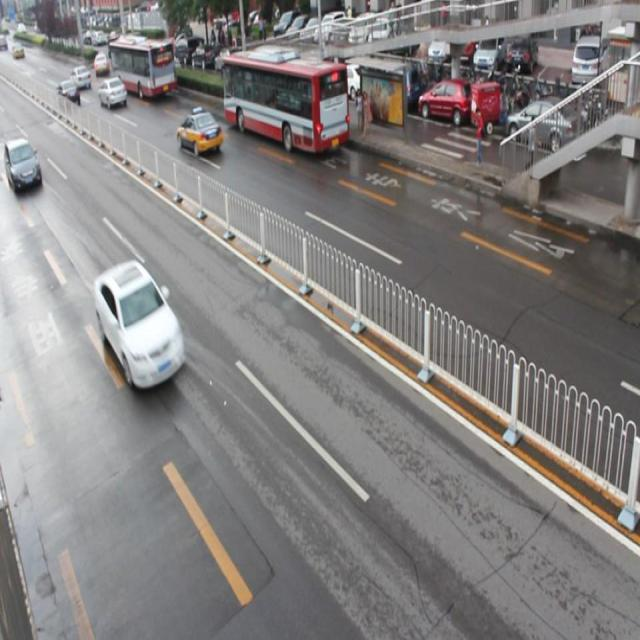car: (94, 258, 184, 389), (177, 110, 223, 156)
truck: (1, 138, 42, 193)
van: (222, 52, 348, 152)
